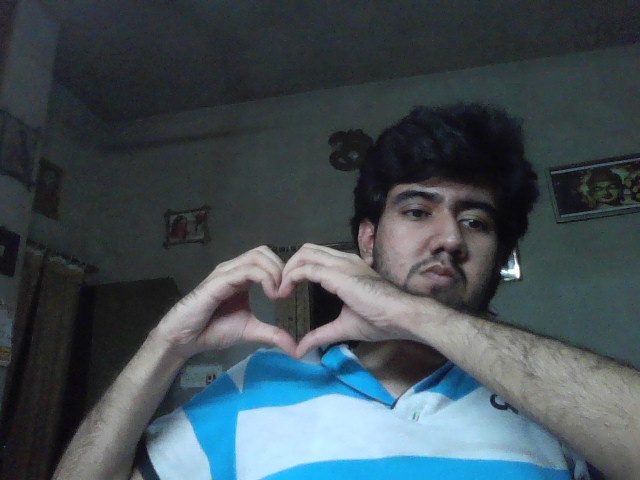Love: (169, 242, 403, 358)
